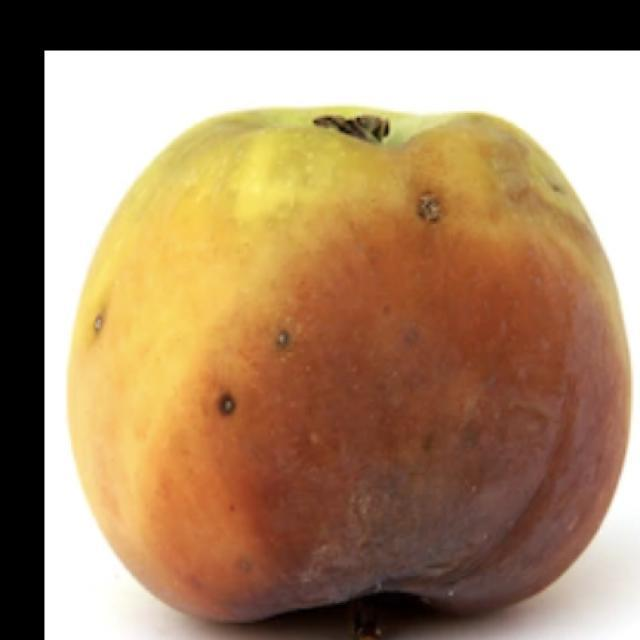Rotten: (81, 93, 612, 620)
